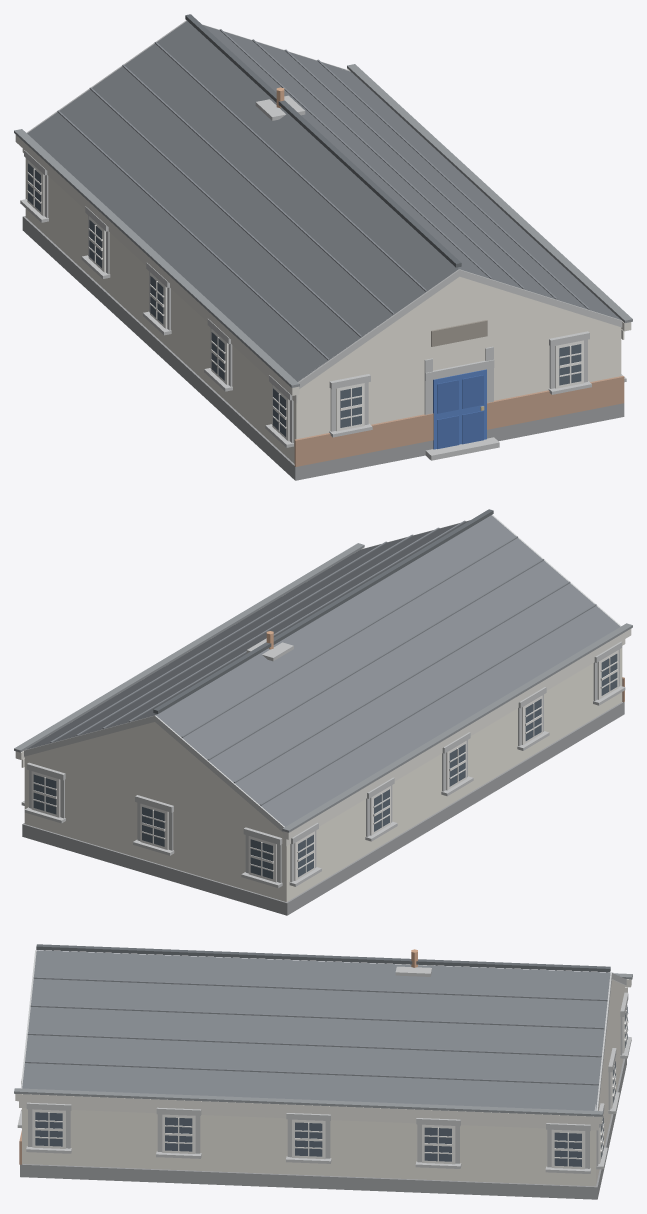
3 renders of one model, top to bottom at view 1: azimuth 30°, elevation 25°; view 2: azimuth 150°, elevation 25°; view 3: azimuth 270°, elevation 25°, orthographic. The views are drawn at different scales.
Parts seen in each view (by area): view 1: slate, harl_cream, stone_band, plinth, slate_lt, ss_red, lead, frame, string, slate_dk, door_royal_p, door_royal (+3 smaller); view 2: slate, harl_cream, stone_band, plinth, slate_lt, lead, frame, string, slate_dk, window_glass_008, window_glass_009, window_glass_010; view 3: slate, harl_cream, plinth, string, stone_band, slate_lt, frame, lead, slate_dk, window_glass_003, window_glass_004, window_glass_005 (+2 smaller).
Part boxes in pixels (x1,y1,x2,y2): slate: (27, 21, 620, 381); harl_cream: (25, 158, 621, 463); stone_band: (20, 20, 626, 460); plinth: (22, 216, 624, 480); slate_lt: (57, 29, 589, 360); ss_red: (294, 376, 624, 466); lead: (14, 64, 632, 387); frame: (27, 160, 583, 441); string: (15, 69, 631, 403); slate_dk: (185, 14, 461, 267); door_royal_p: (437, 375, 483, 449); door_royal: (433, 369, 486, 449); slate: (26, 515, 620, 826); harl_cream: (24, 648, 622, 901); stone_band: (21, 514, 625, 887); plinth: (22, 702, 624, 915); slate_lt: (50, 520, 596, 805); lead: (14, 543, 632, 832); frame: (31, 650, 618, 882); string: (15, 548, 631, 846); slate_dk: (153, 509, 493, 713); window_glass_008: (33, 774, 56, 814); window_glass_009: (142, 807, 164, 846); window_glass_010: (250, 839, 272, 878); slate: (22, 950, 610, 1110); harl_cream: (22, 979, 624, 1186); plinth: (20, 1058, 626, 1199); string: (15, 979, 631, 1130); stone_band: (17, 950, 631, 1173); slate_lt: (25, 950, 621, 1085); frame: (21, 1006, 628, 1169); lead: (14, 973, 632, 1116); slate_dk: (36, 944, 610, 972); window_glass_003: (35, 1112, 62, 1146); window_glass_004: (165, 1117, 192, 1151); window_glass_005: (295, 1122, 322, 1156).
Size of the model in its own units: 12.69 by 6.27 by 20.3.
